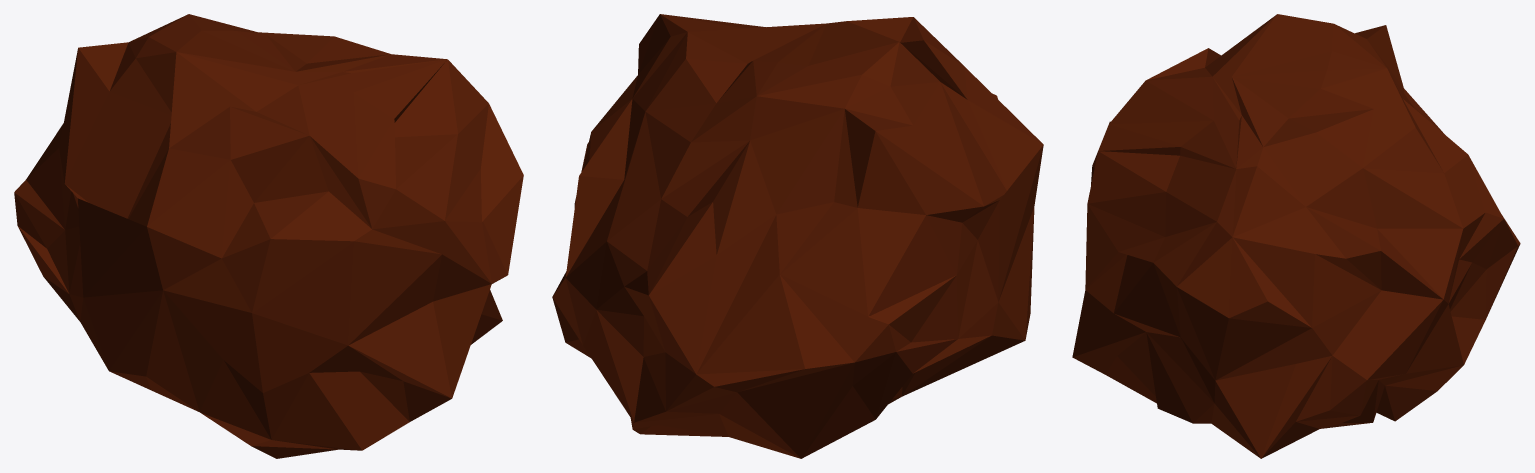
The model's file is Stone_03.glb.
3 renders of one model, left to right at view 1: azimuth 30°, elevation 25°; view 2: azimuth 150°, elevation 25°; view 3: azimuth 270°, elevation 25°, orthographic. The views are drawn at different scales.
Parts seen in each view (by area): view 1: Stone_03; view 2: Stone_03; view 3: Stone_03.
Part boxes in pixels (x1,y1,x2,y2): Stone_03: (14, 14, 523, 458); Stone_03: (552, 14, 1043, 458); Stone_03: (1072, 14, 1520, 458).
Size of what is drawn, in the model's own units: 1.02 by 0.8814 by 1.06.
1 material, 1 textured.
